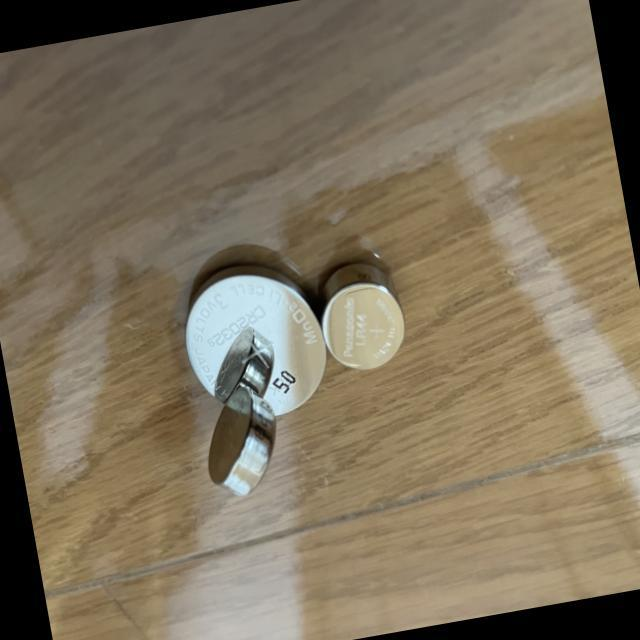COIN: (171, 248, 337, 432), (306, 252, 414, 376), (189, 375, 290, 503)
